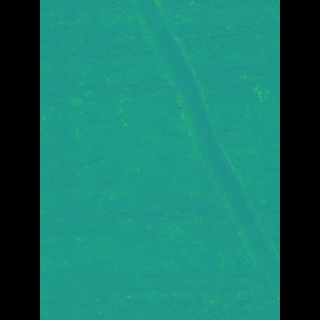Loch: (136, 0, 250, 303)
